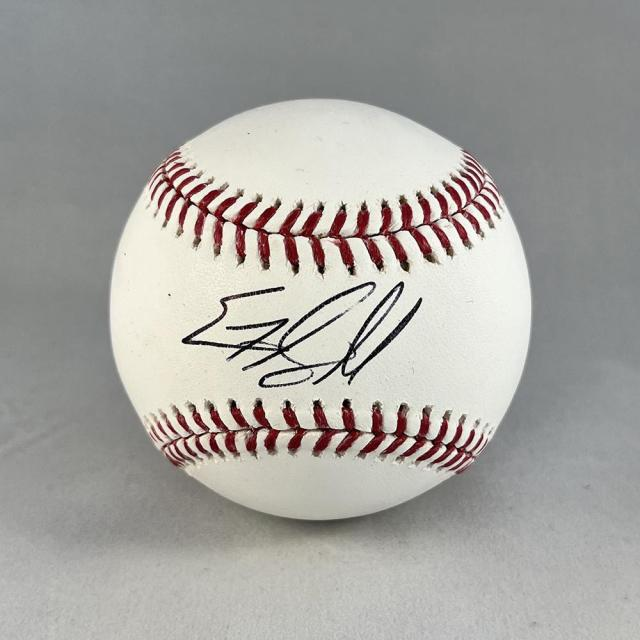ball: (102, 89, 538, 531)
